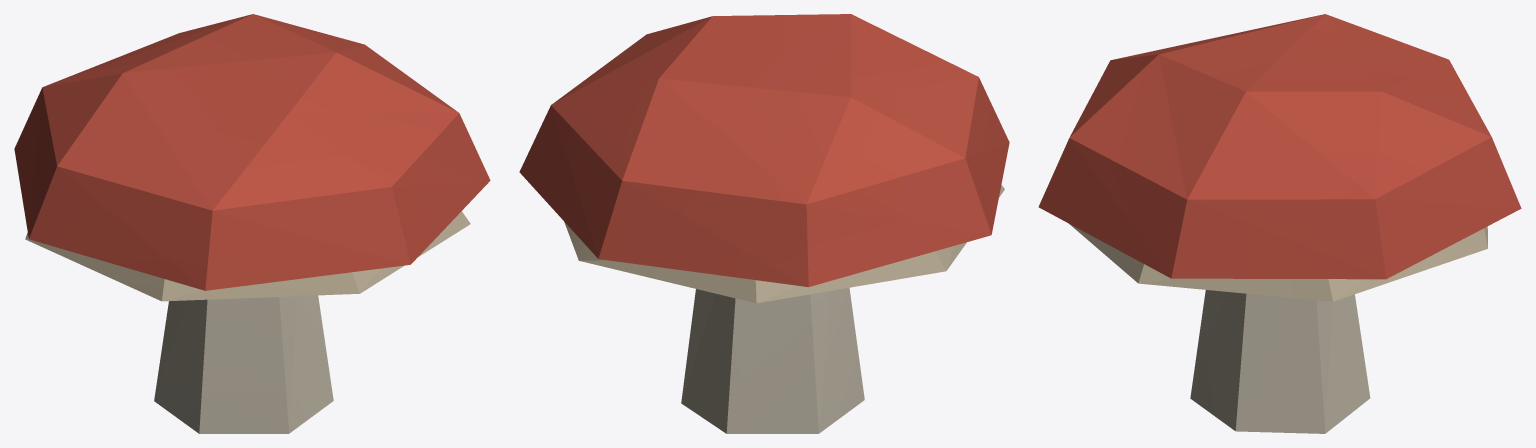
File: prop_toadstoolRed_lod2.glb
3 renders of one model, left to right at view 1: azimuth 30°, elevation 25°; view 2: azimuth 150°, elevation 25°; view 3: azimuth 270°, elevation 25°, orthographic. The views are drawn at different scales.
Visible parts, largest first — view 1: prop_toadstoolRed_lod2; view 2: prop_toadstoolRed_lod2; view 3: prop_toadstoolRed_lod2.
Boxes of the visible parts, x1,y1,x2,y2 form: prop_toadstoolRed_lod2: [14, 14, 490, 433]; prop_toadstoolRed_lod2: [519, 14, 1009, 433]; prop_toadstoolRed_lod2: [1038, 14, 1521, 433].
Size of the model in its own units: 0.6096 by 0.4942 by 0.6243.
